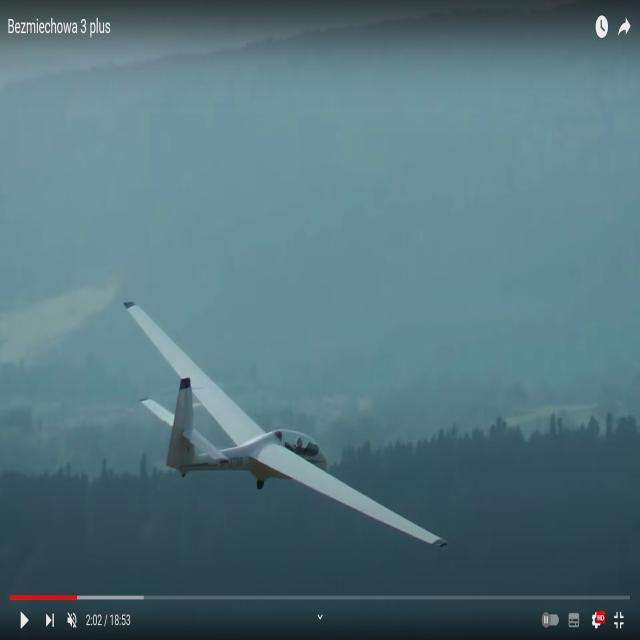iha: (119, 301, 457, 551)
